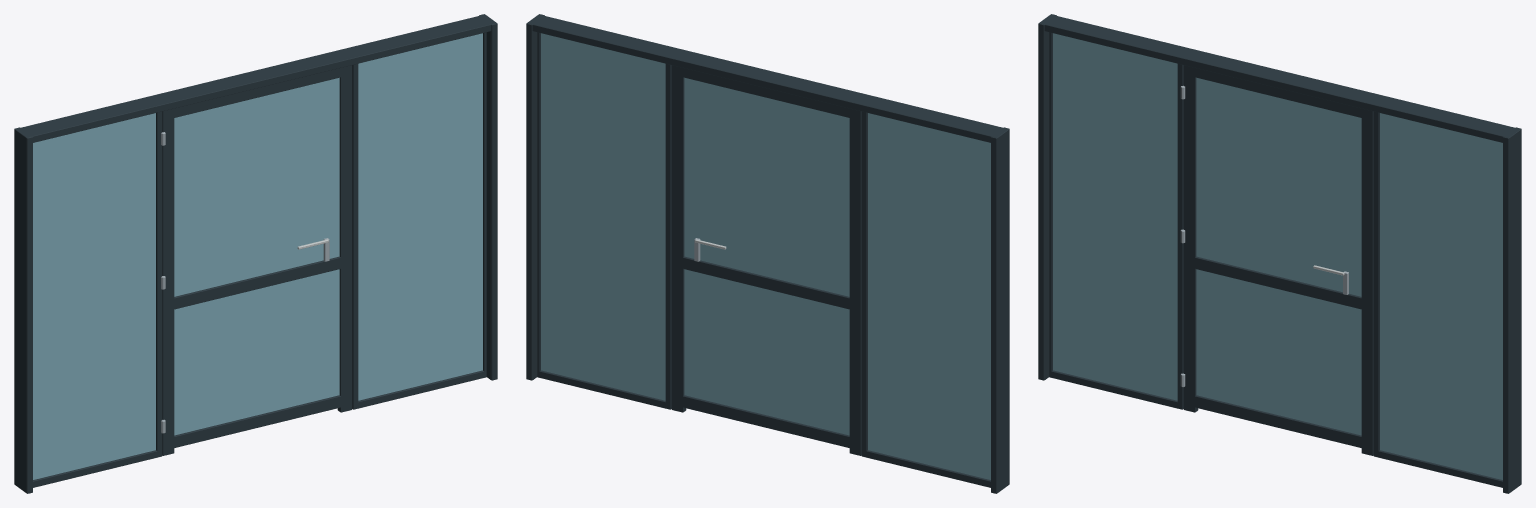
The model's file is b21_door_storefront_3_6m.glb.
3 renders of one model, left to right at view 1: azimuth 30°, elevation 25°; view 2: azimuth 150°, elevation 25°; view 3: azimuth 330°, elevation 25°, orthographic.
Parts seen in each view (by area): view 1: b21_door_storefront_3_6m; view 2: b21_door_storefront_3_6m; view 3: b21_door_storefront_3_6m.
Part boxes in pixels (x1,y1,x2,y2): b21_door_storefront_3_6m: [14, 14, 497, 493]; b21_door_storefront_3_6m: [526, 14, 1009, 493]; b21_door_storefront_3_6m: [1038, 14, 1521, 493].
Bounding box in the file's own units: 3.6 × 2.6 × 0.176.
